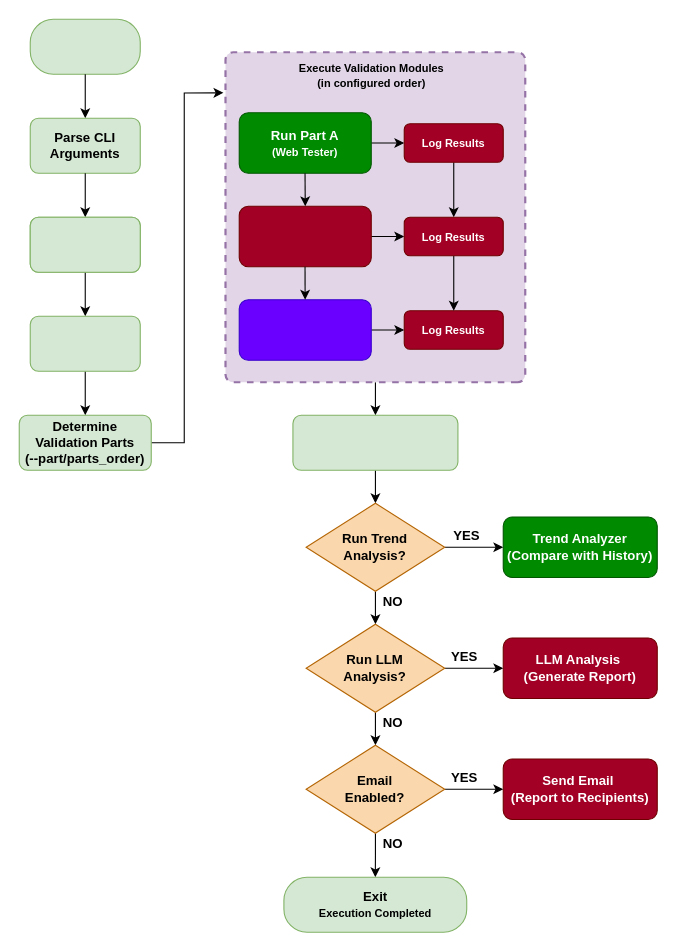
Some shapes in this 677 by 952 pixel diagram are drawn without their labels. Each missing label, with the centre of its shape:
Initialize Logger: point 84,343
Load YAML Configuration: point 84,244
Run Part B (App Health): point 304,236
Run Part C (Desktop Auditor): point 304,329
Start User runs jiopc-agent: point 84,46
Write Execution Summary (JSONL): point 375,442
